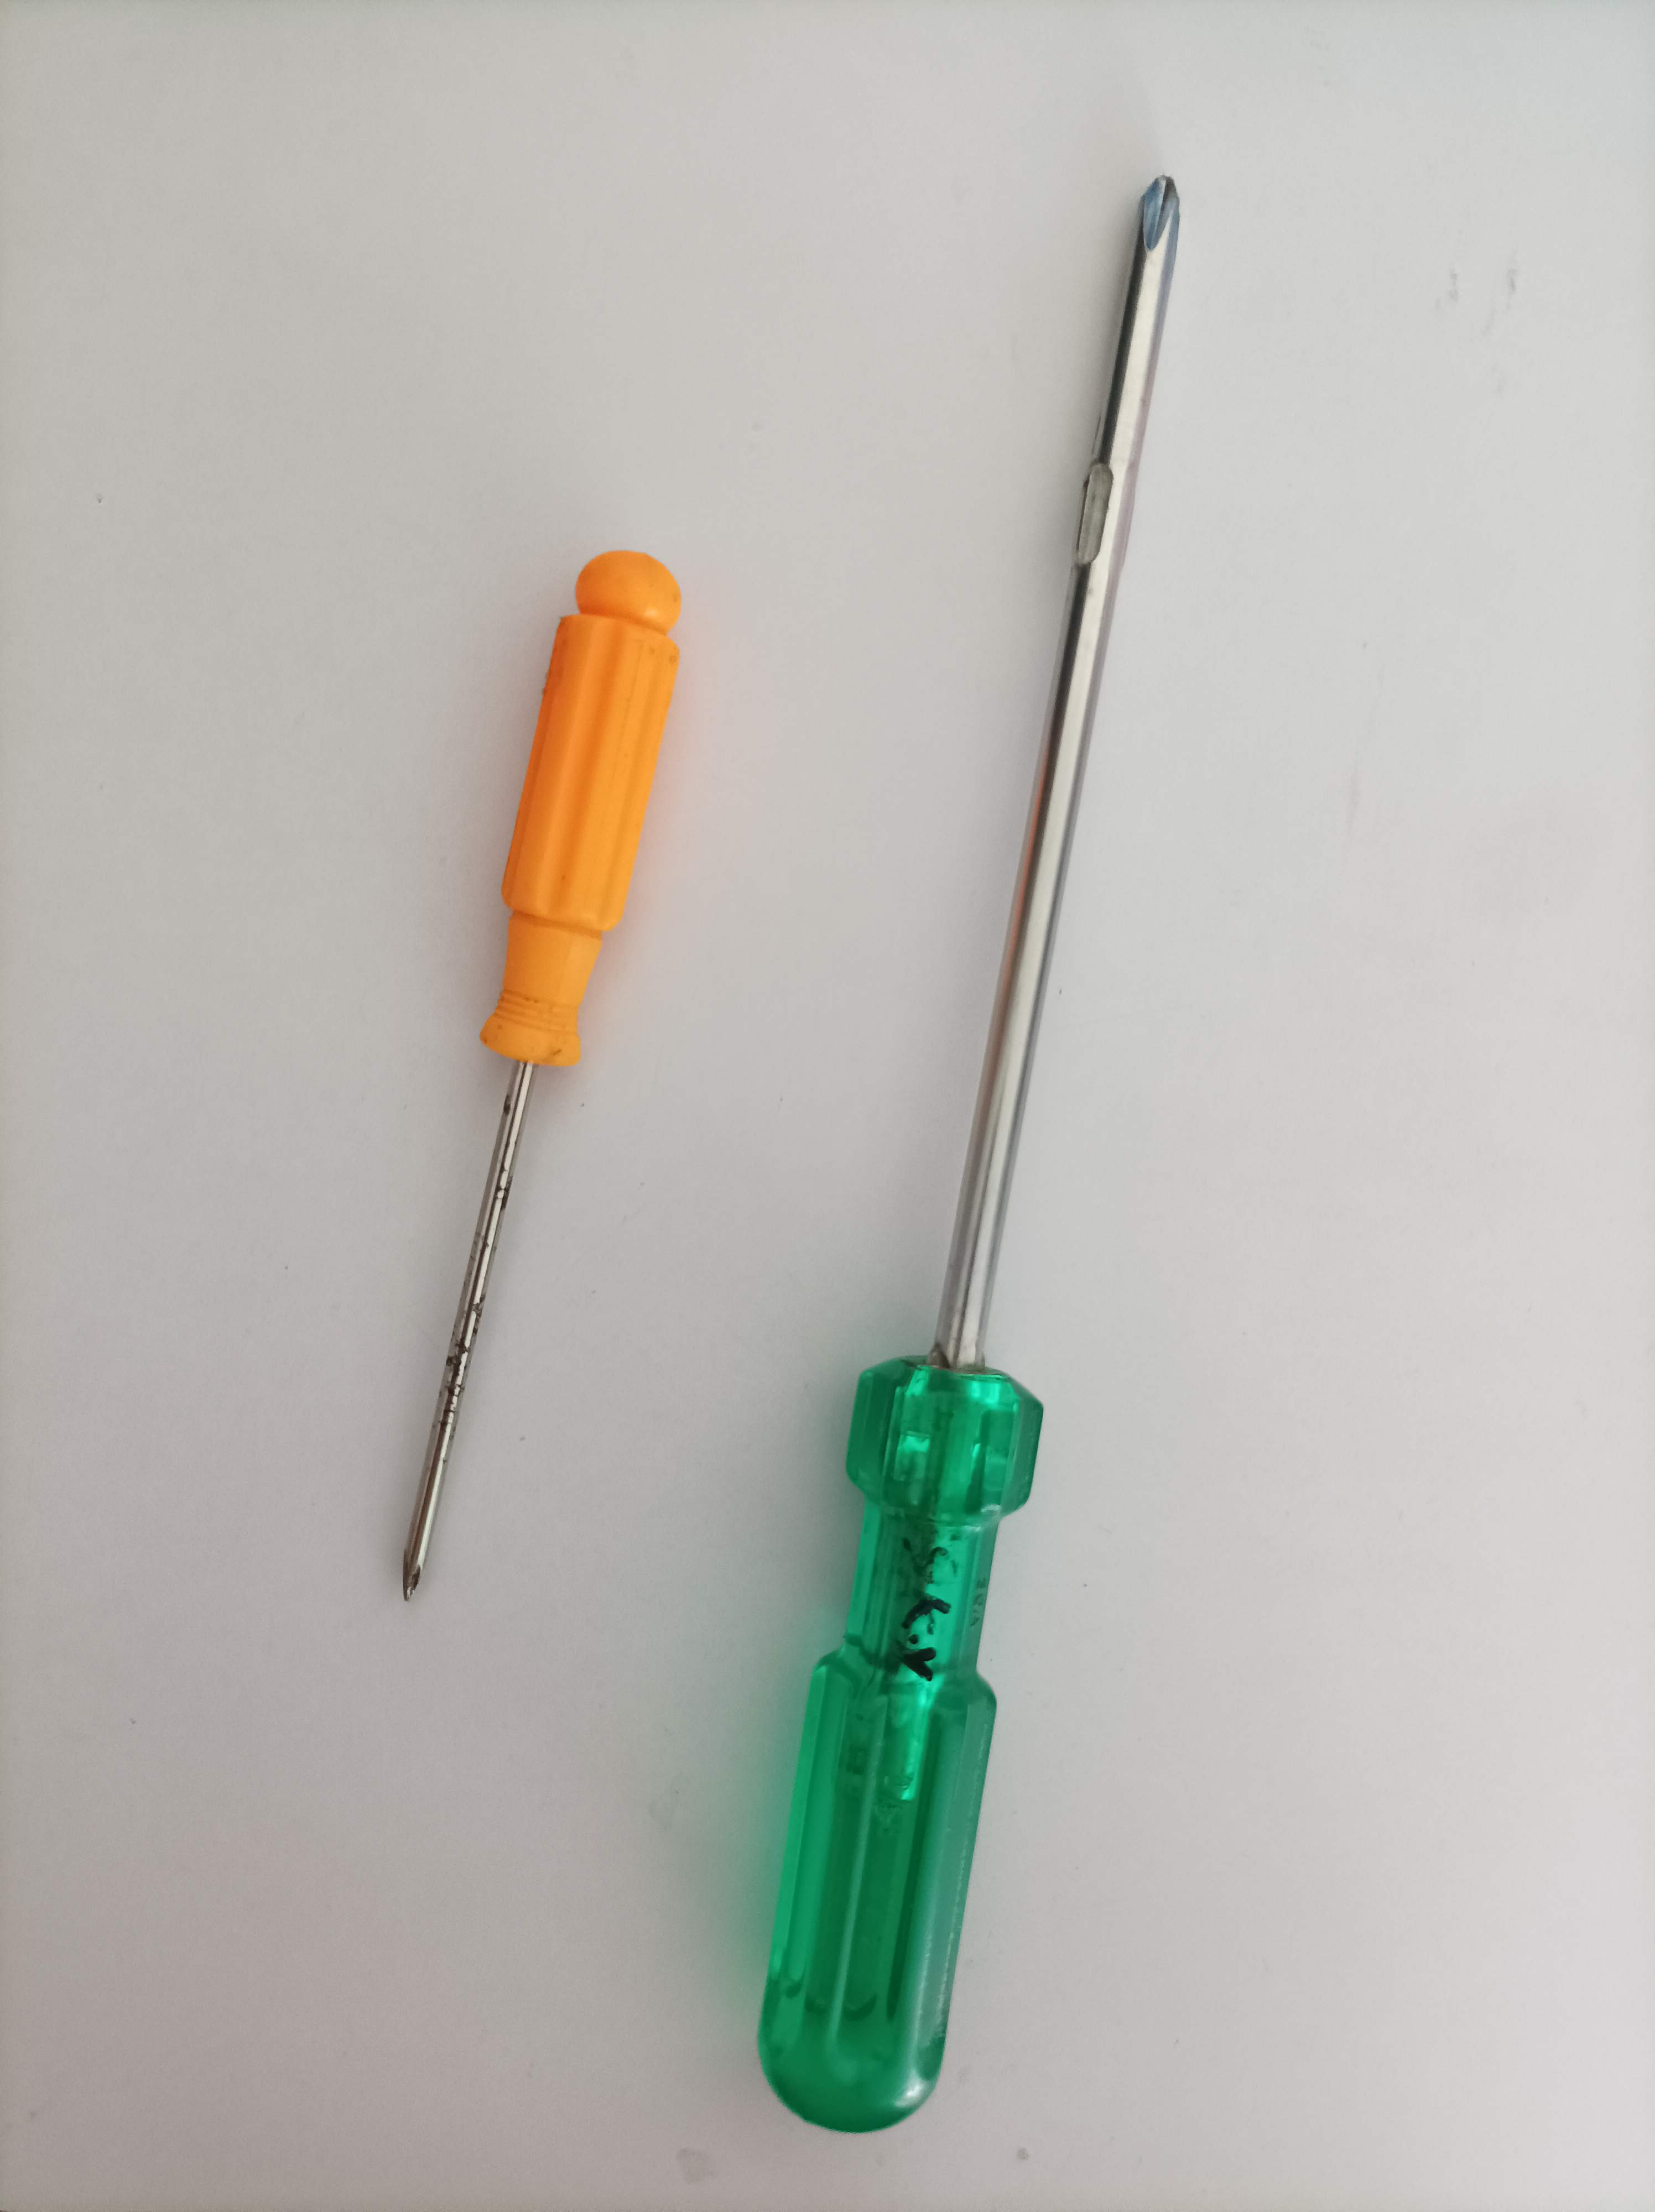screwdriver: (739, 156, 1201, 2144), (384, 539, 695, 1618)
